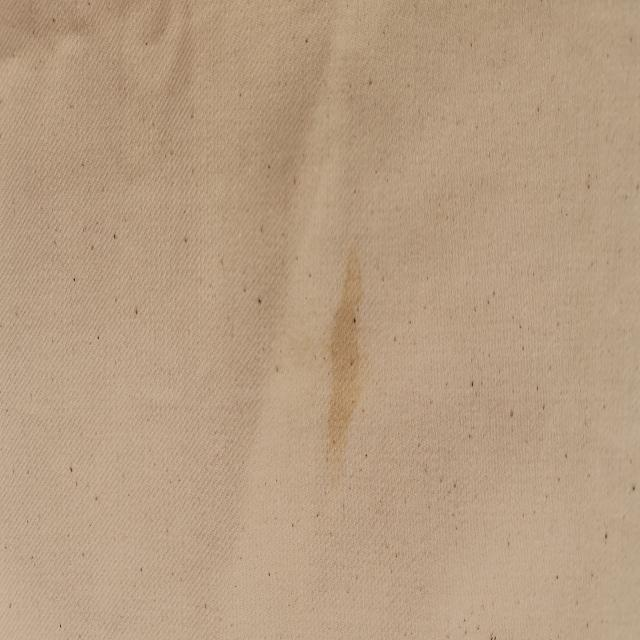taaaches: (312, 228, 393, 492)
